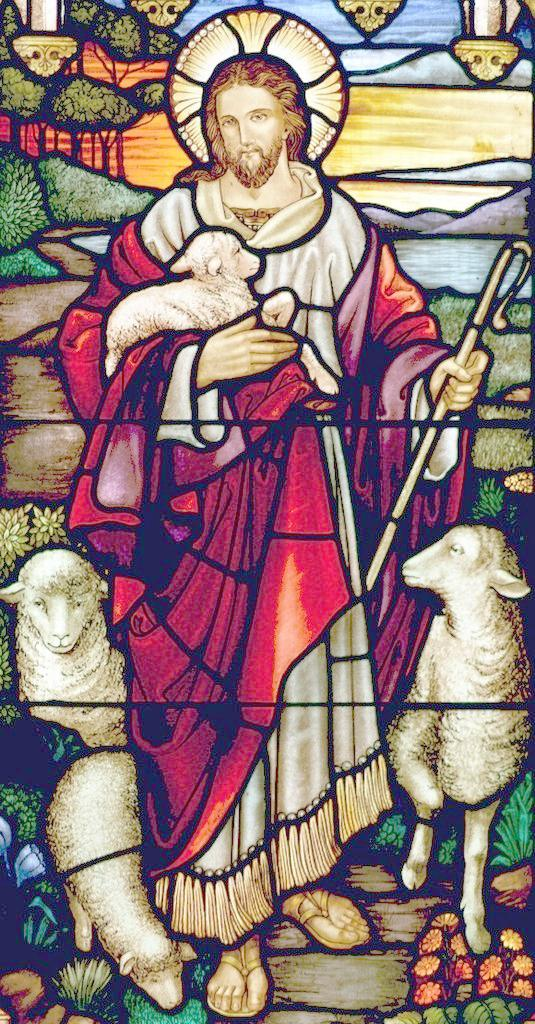Sheep: (394, 526, 523, 950), (44, 750, 194, 1006), (0, 554, 130, 748)
